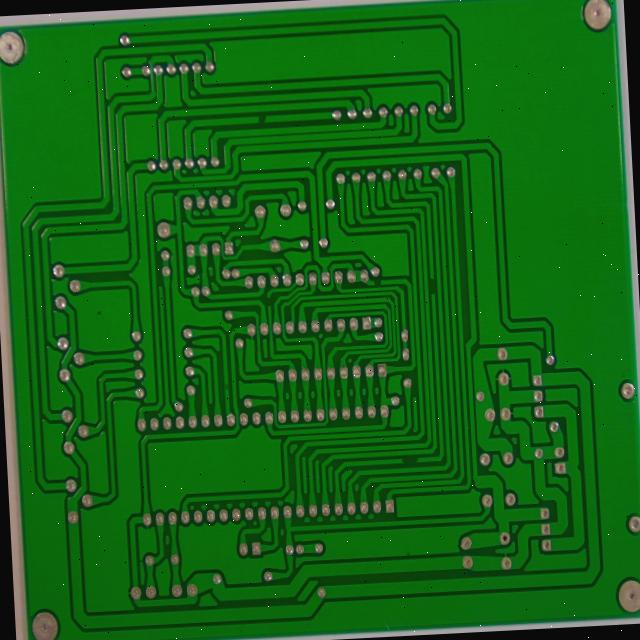open_circuit: (289, 130, 305, 152), (453, 544, 477, 557), (485, 329, 495, 357), (420, 330, 436, 345), (301, 352, 310, 369)
